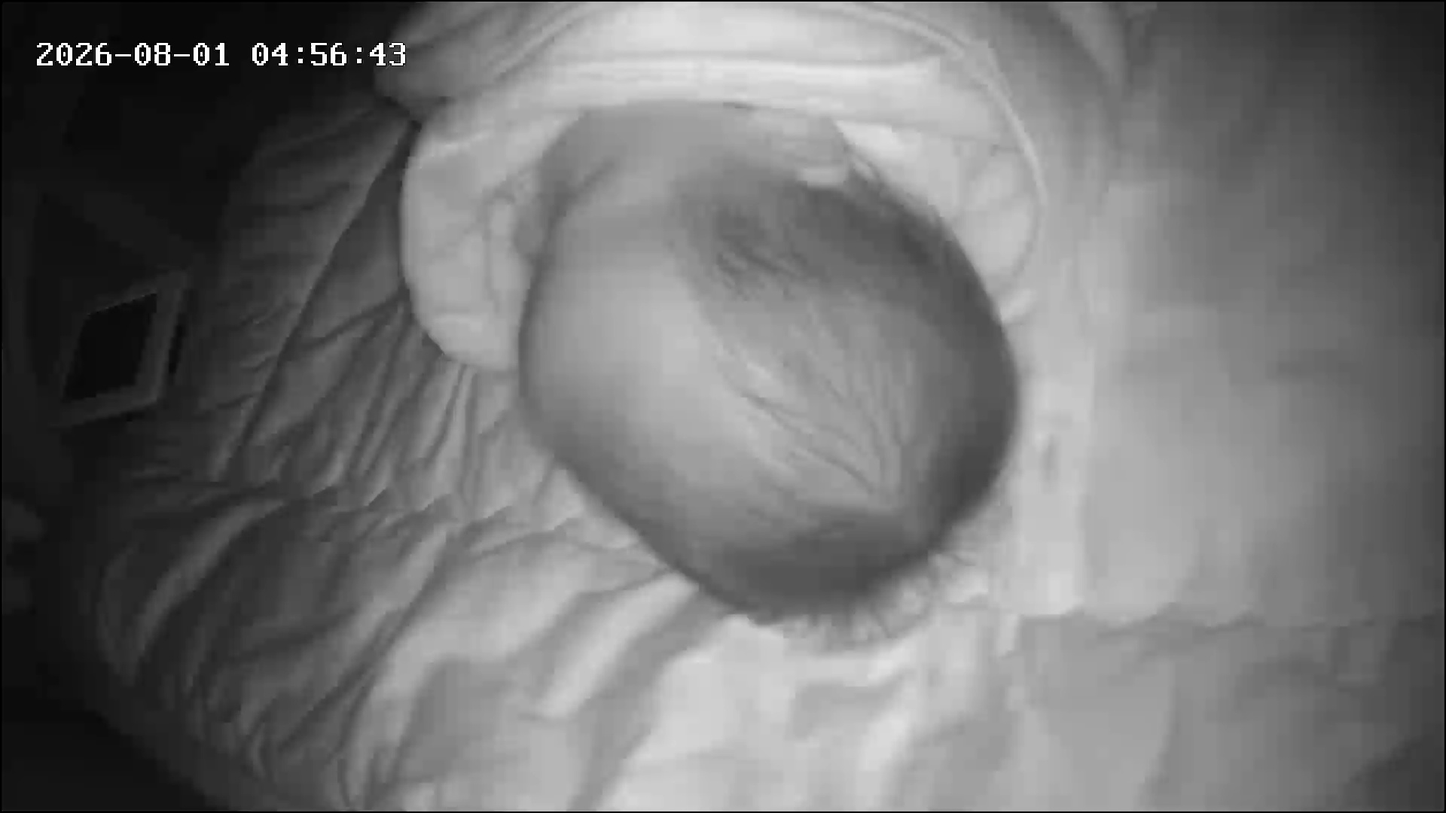baby: (296, 0, 1099, 643)
baby_face: (513, 88, 1031, 626)
